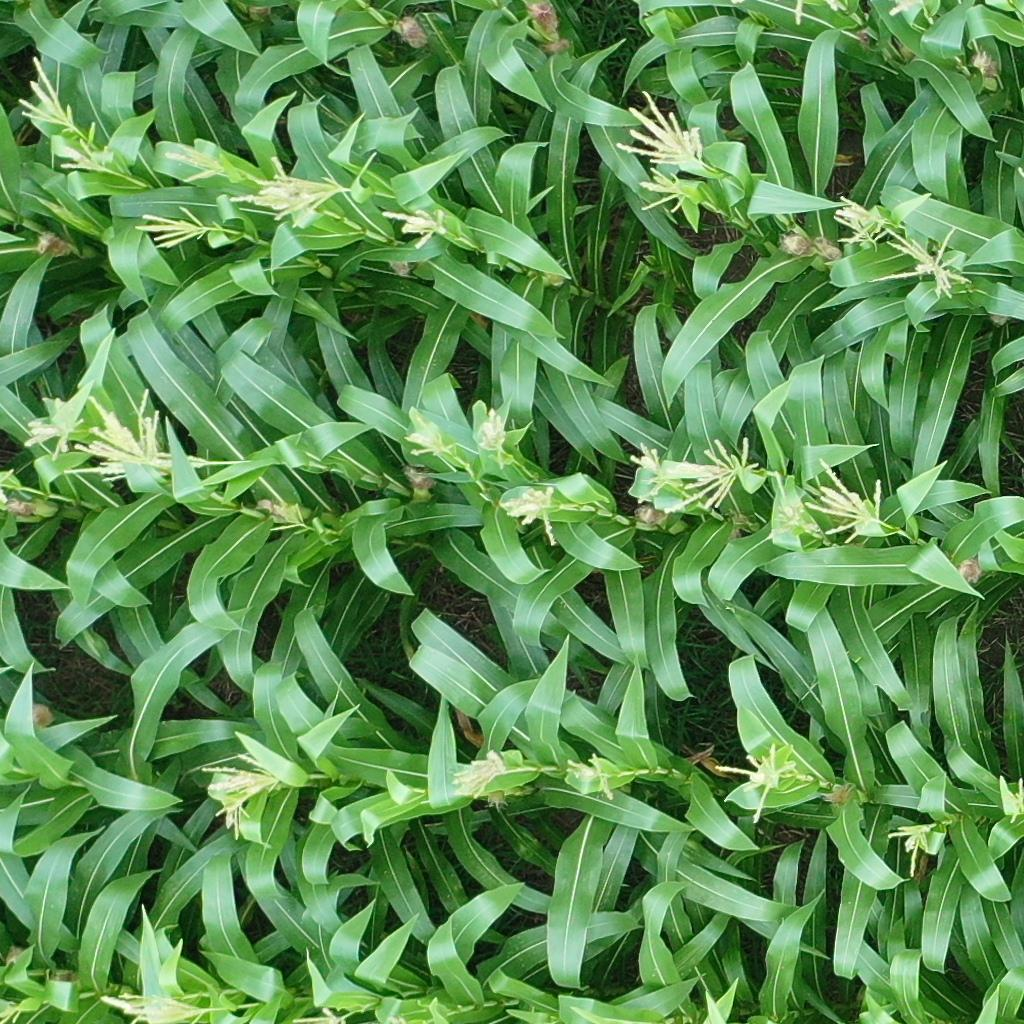Tassel: (64, 383, 222, 482), (665, 433, 771, 521), (877, 219, 975, 304), (230, 157, 341, 232), (806, 455, 891, 544), (615, 88, 715, 162), (715, 746, 797, 822), (198, 750, 278, 826), (97, 986, 235, 1024), (14, 52, 76, 132), (629, 443, 692, 516), (770, 469, 824, 553), (498, 484, 566, 549), (21, 392, 83, 462), (827, 191, 895, 249), (156, 135, 228, 187), (131, 208, 209, 252), (375, 204, 448, 249), (635, 163, 696, 215), (51, 137, 121, 180), (454, 750, 507, 804), (398, 417, 454, 465), (473, 404, 516, 466), (565, 753, 616, 804), (887, 824, 933, 877), (264, 503, 310, 534), (290, 1005, 364, 1024), (1004, 776, 1024, 824), (1, 1005, 26, 1024)
